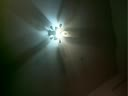window: (43, 72, 128, 96)
